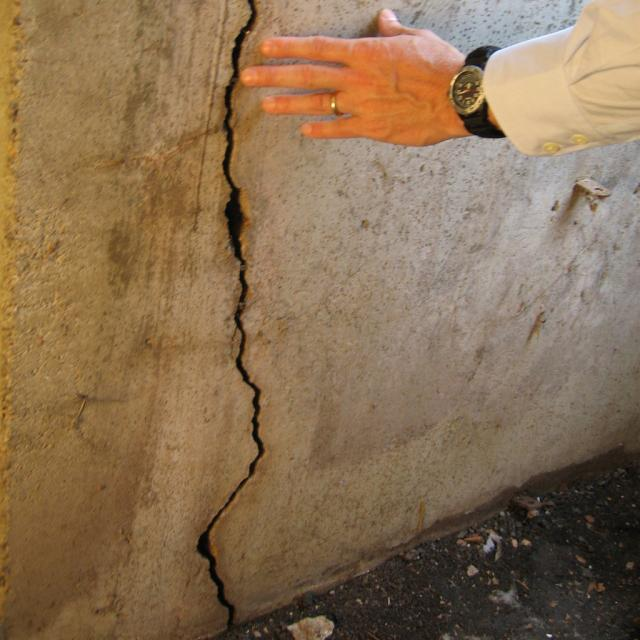Wall_Cracks: (152, 0, 302, 640)
